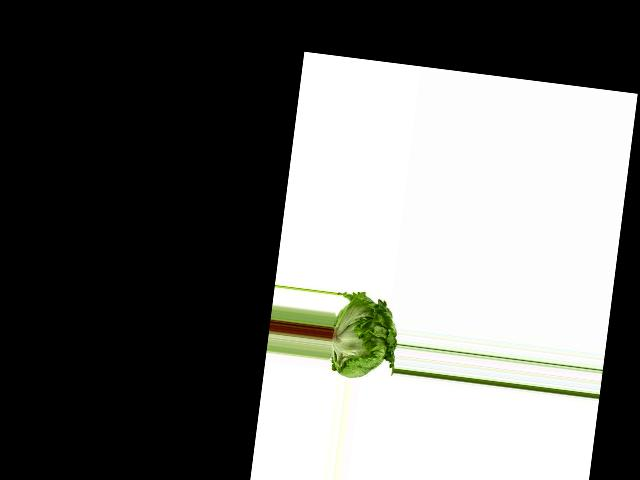lettuce: (326, 285, 402, 385)
